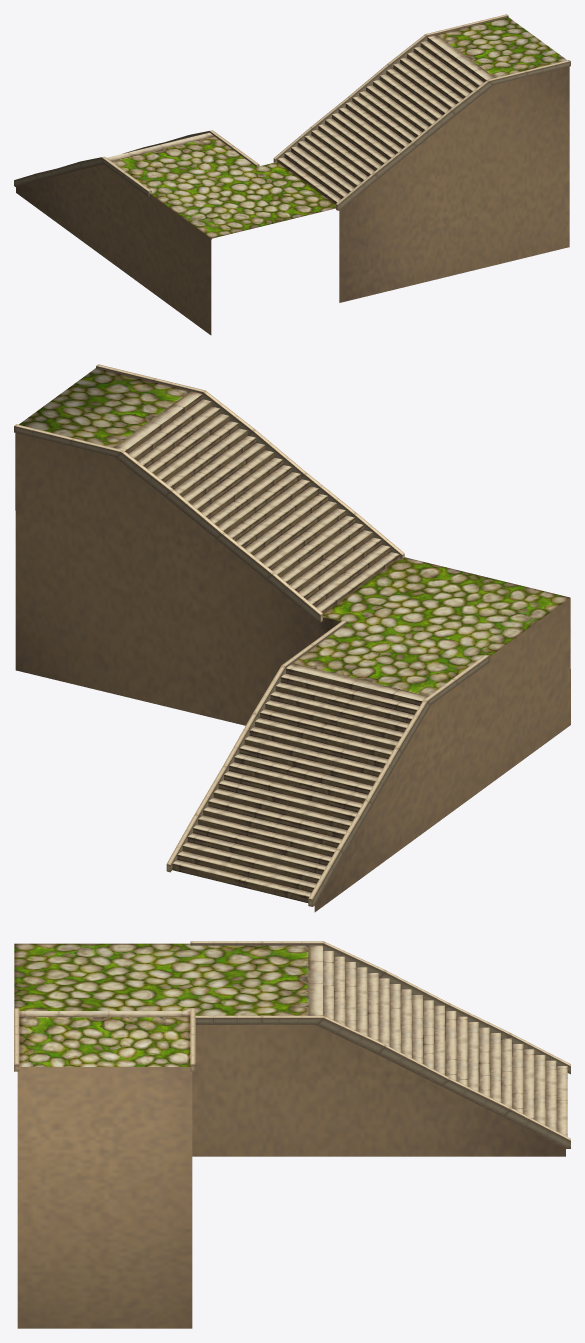
Rendered from a_SETway01a.glb.
3 views of the same model, one above another, from view 1: azimuth 30°, elevation 25°; view 2: azimuth 150°, elevation 25°; view 3: azimuth 270°, elevation 25° (orthographic). The views are drawn at different scales.
Visible parts, largest first — view 1: a_SETway01a; view 2: a_SETway01a; view 3: a_SETway01a.
Part boxes in pixels (<box>): a_SETway01a: <box>14,14,570,335</box>; a_SETway01a: <box>14,364,570,912</box>; a_SETway01a: <box>14,941,570,1328</box>.
Size of the model in its own units: 17.21 by 8.53 by 16.3.
1 material, 1 textured.
